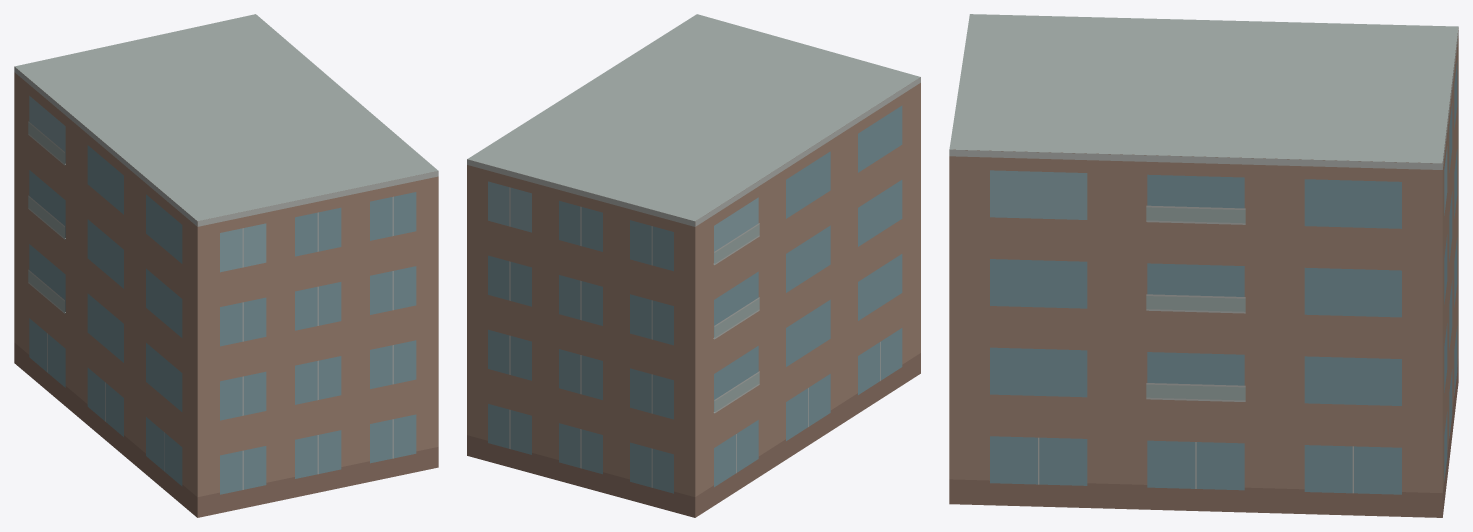
Rendered from survey-upis-32559739.glb.
The picture shows the model from 3 angles, left to right: view 1: azimuth 30°, elevation 25°; view 2: azimuth 150°, elevation 25°; view 3: azimuth 270°, elevation 25°; orthographic projection. The views are drawn at different scales.
Visible parts, largest first — view 1: survey-upis-32559739.tmp; view 2: survey-upis-32559739.tmp; view 3: survey-upis-32559739.tmp.
Part boxes in pixels (box(x1,y1,x2,y2)): survey-upis-32559739.tmp: box(14, 14, 438, 517); survey-upis-32559739.tmp: box(467, 14, 920, 517); survey-upis-32559739.tmp: box(949, 14, 1458, 517).
Size of the model in its own units: 11.67 by 12.9 by 16.81.
